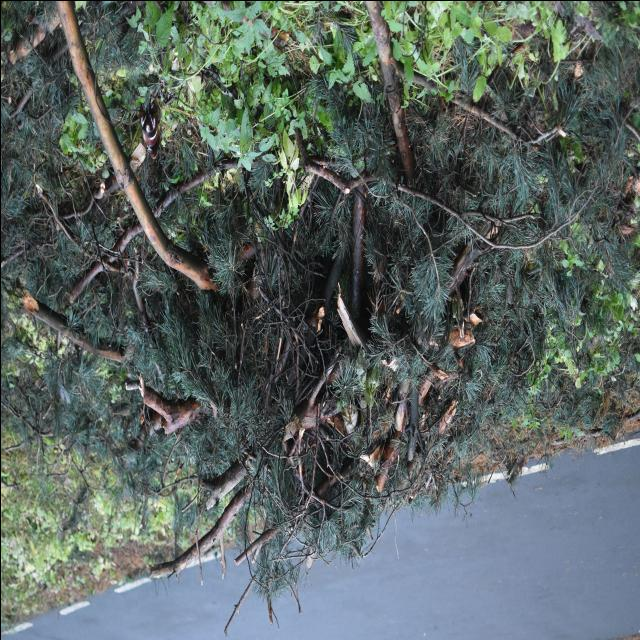lixo domiciliar: (140, 106, 160, 156)
restos de madeira: (406, 163, 606, 270), (215, 116, 386, 225), (529, 250, 638, 406), (101, 132, 190, 274), (544, 111, 640, 237), (359, 1, 415, 196), (208, 450, 293, 574), (492, 4, 610, 75), (20, 288, 124, 367), (298, 438, 388, 525), (60, 3, 111, 148), (206, 0, 290, 74), (370, 298, 438, 380), (444, 91, 540, 149), (2, 3, 86, 69), (301, 236, 348, 348), (148, 0, 201, 96), (135, 367, 198, 437), (326, 274, 371, 366), (0, 378, 55, 449), (294, 346, 340, 420), (100, 537, 162, 589), (346, 187, 370, 321), (29, 188, 82, 248), (163, 530, 226, 580), (354, 500, 401, 560), (443, 234, 487, 296), (223, 572, 260, 636), (36, 436, 76, 494), (554, 418, 622, 448), (128, 252, 152, 336), (138, 462, 191, 500), (268, 324, 296, 394), (611, 95, 640, 160), (74, 330, 128, 363), (614, 168, 640, 232), (376, 434, 402, 492), (109, 216, 144, 258), (91, 166, 131, 202), (568, 3, 604, 42), (18, 90, 54, 122), (405, 380, 419, 460), (392, 374, 409, 438), (501, 452, 528, 490), (232, 312, 246, 384), (446, 322, 476, 351), (436, 398, 456, 438), (108, 0, 139, 25), (194, 264, 216, 292), (424, 358, 449, 382), (266, 588, 280, 630), (0, 436, 32, 454), (338, 538, 364, 560), (288, 579, 302, 617), (304, 543, 318, 569), (622, 404, 640, 424), (392, 506, 398, 559)
